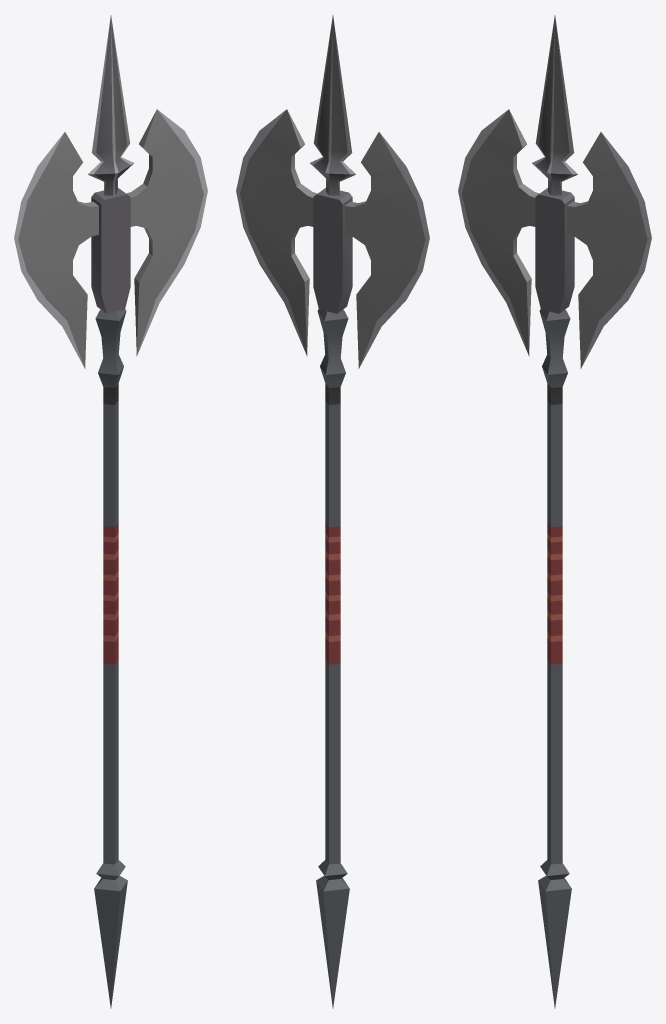
Rendered from Spear_5.fbx.
3 renders of one model, left to right at view 1: azimuth 30°, elevation 25°; view 2: azimuth 150°, elevation 25°; view 3: azimuth 330°, elevation 25°, orthographic.
Parts seen in each view (by area): view 1: polySurface311; view 2: polySurface311; view 3: polySurface311.
Boxes of the visible parts, left/top/right/bottom form: polySurface311: left=14, top=15, right=207, bottom=1008; polySurface311: left=236, top=15, right=429, bottom=1008; polySurface311: left=458, top=15, right=651, bottom=1008.
Size of the model in its own units: 132 by 646 by 22.24.
